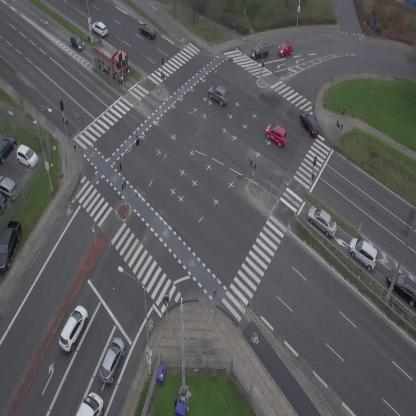car: (54, 303, 92, 353), (96, 335, 130, 386), (343, 233, 384, 272), (303, 203, 343, 240), (262, 120, 292, 148), (297, 108, 323, 138), (65, 32, 87, 54), (136, 21, 159, 40), (89, 19, 110, 39), (208, 85, 228, 106), (276, 41, 295, 57), (249, 44, 269, 58)
lorry: (83, 33, 137, 85), (75, 392, 103, 416)
